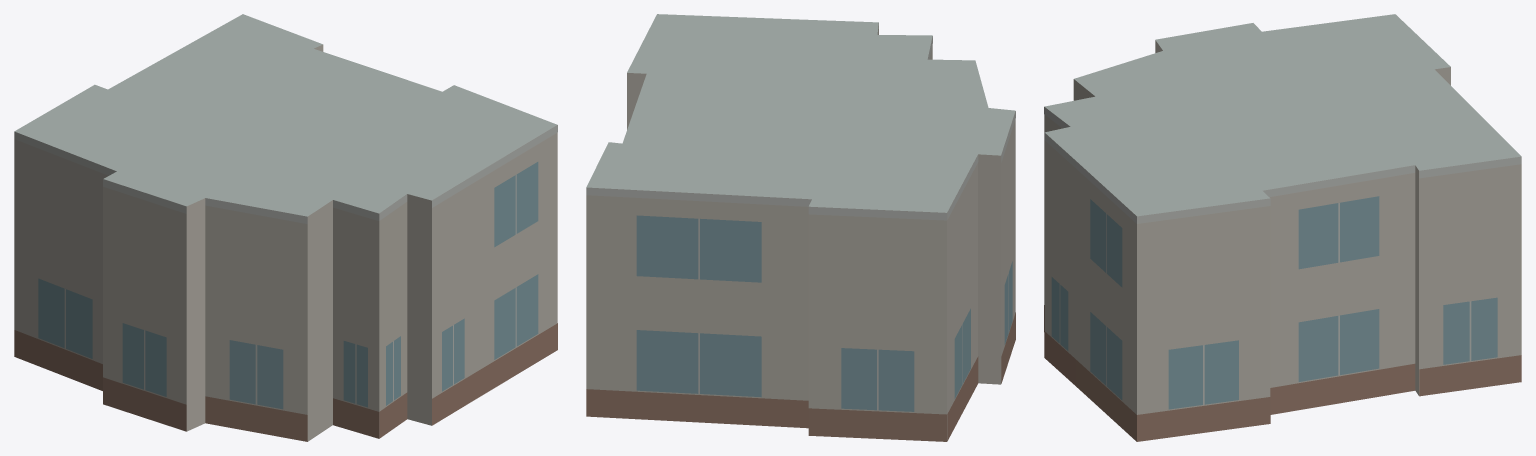
File: survey-upis-32918035.glb
3 views of the same model, side by side, from view 1: azimuth 30°, elevation 25°; view 2: azimuth 150°, elevation 25°; view 3: azimuth 270°, elevation 25° (orthographic).
Visible parts, largest first — view 1: survey-upis-32918035.tmp; view 2: survey-upis-32918035.tmp; view 3: survey-upis-32918035.tmp.
Part boxes in pixels (x1,y1,x2,y2): survey-upis-32918035.tmp: (14,14,557,441); survey-upis-32918035.tmp: (586,14,1015,441); survey-upis-32918035.tmp: (1044,14,1521,441).
Size of the model in its own units: 13.87 by 7.2 by 13.83.
